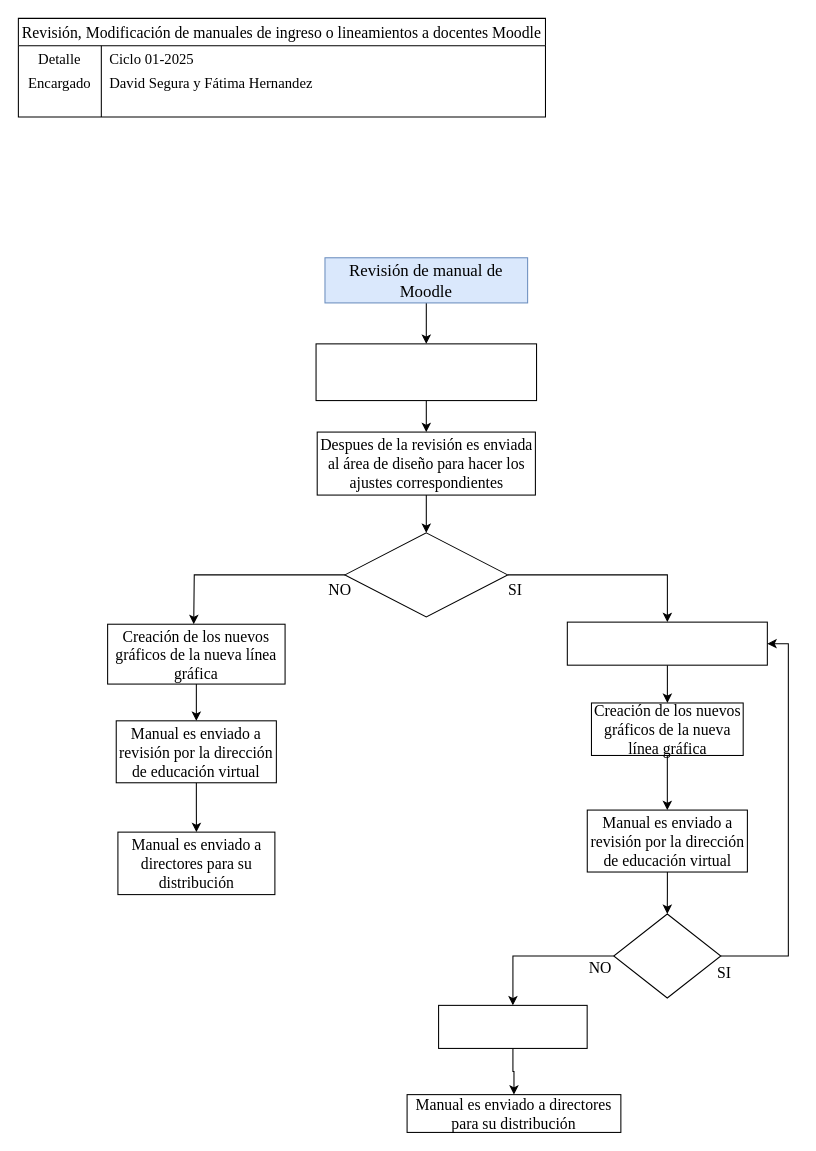
This 816x1151 diagram has some shape labels left out. Here are the shapes that lost their labels. From the top down, the centre of each, then its label:
At (426,372): "Revisión de información por parte de la dirección de Utec Virtual en cada ciclo".
At (426,574): "¿información desactualizada?".
At (666,643): "Agregar o quitar información".
At (667,955): "¿Correción?".
At (512,1026): "manual ya listo para su publicación".
